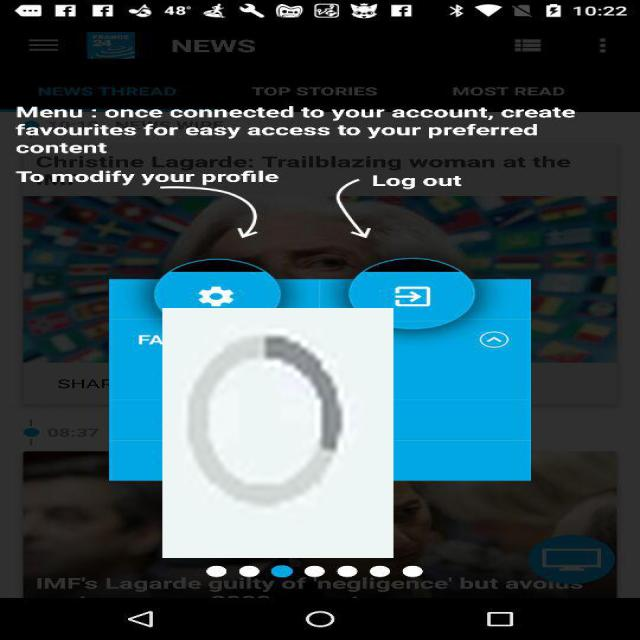misdirection: (162, 308, 394, 558)
